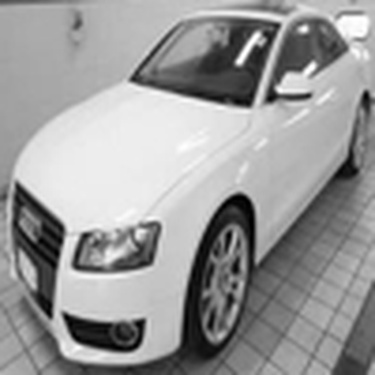car: (3, 2, 371, 371)
